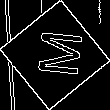M_W: (27, 30, 83, 80)
